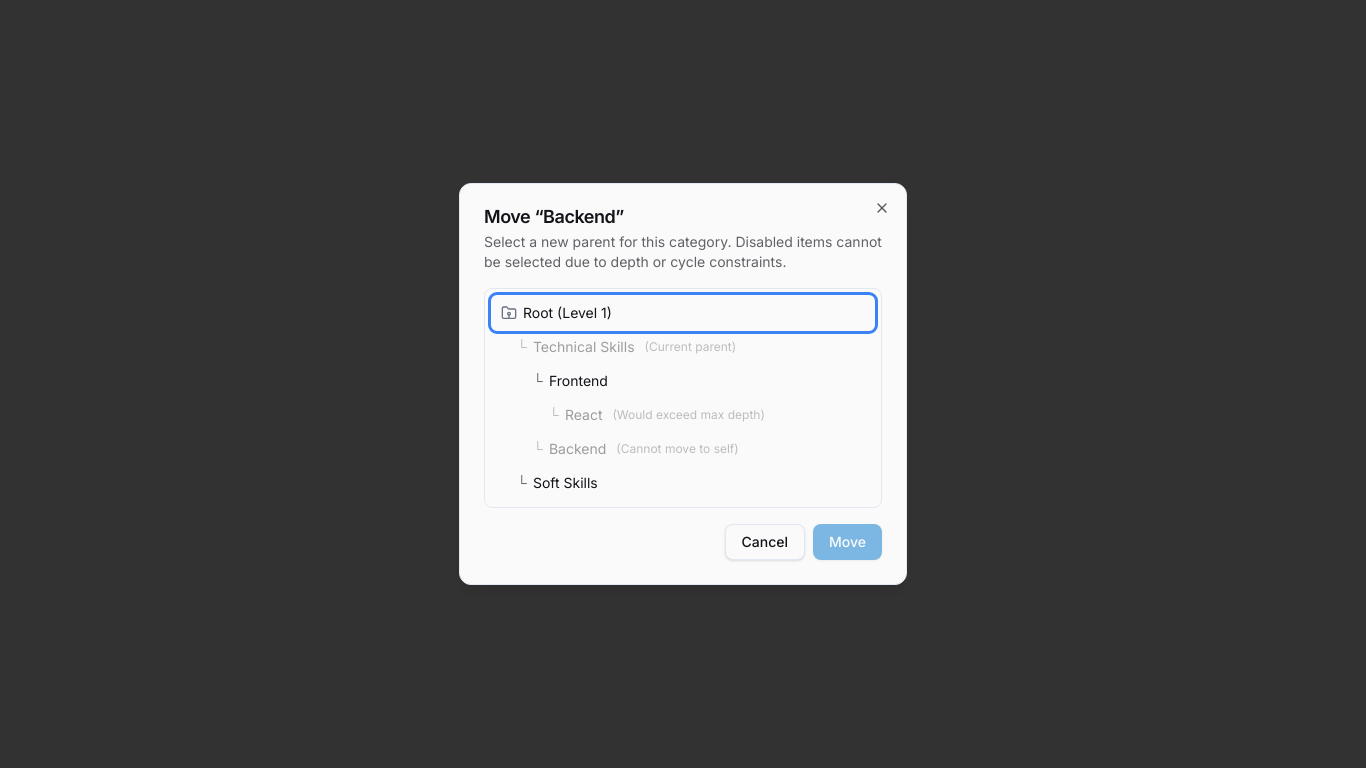
Test: MoveToDialog › allows selecting root as target
The width and height of the screenshot is (1366, 768).
Click the option with test id "move-target-root": (567, 312) left=493, top=297, right=873, bottom=329
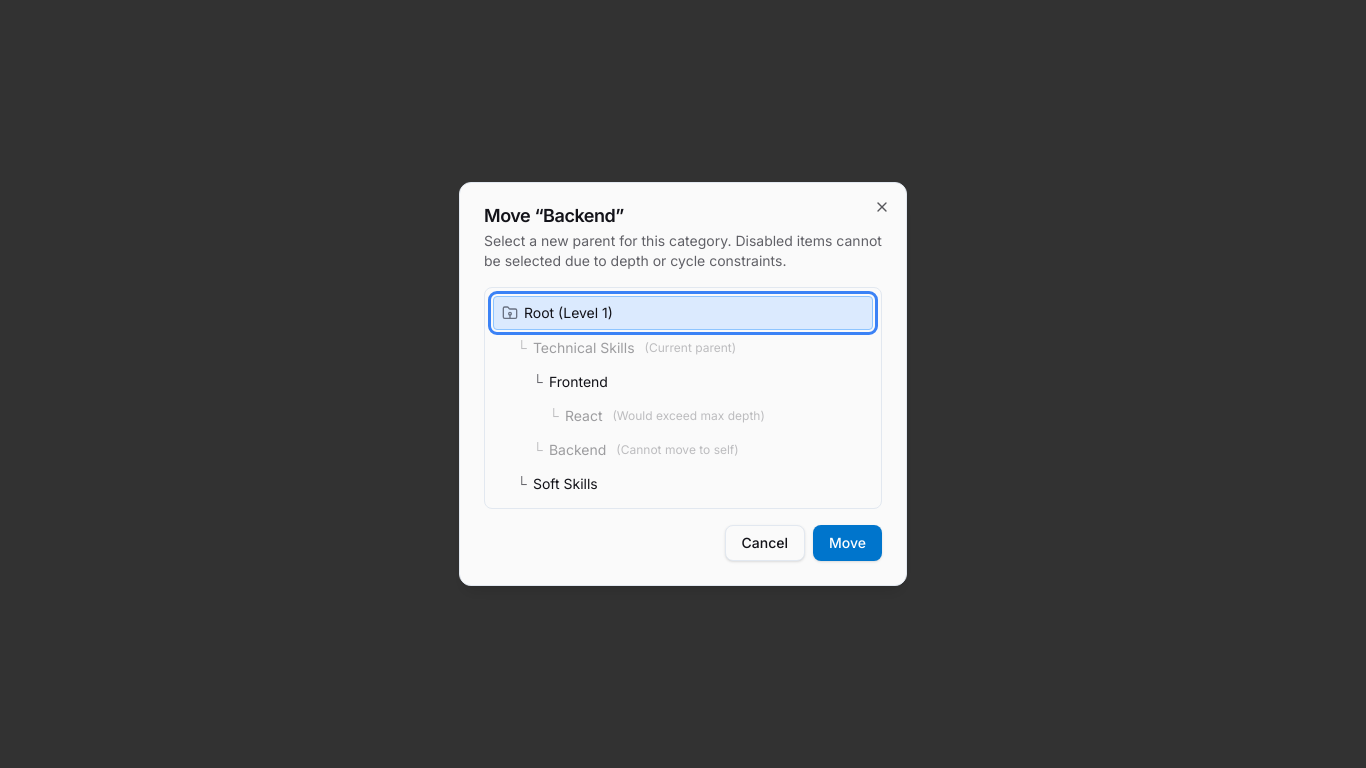
Check: the button "Move" is enabled, box left=813, top=525, right=882, bottom=561
